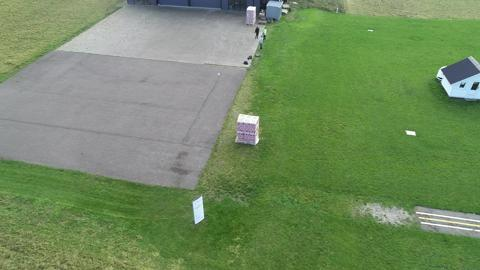RockwoolPallet: (235, 113, 261, 145)
